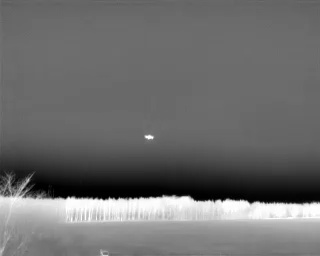DRONE: (140, 130, 158, 145)
